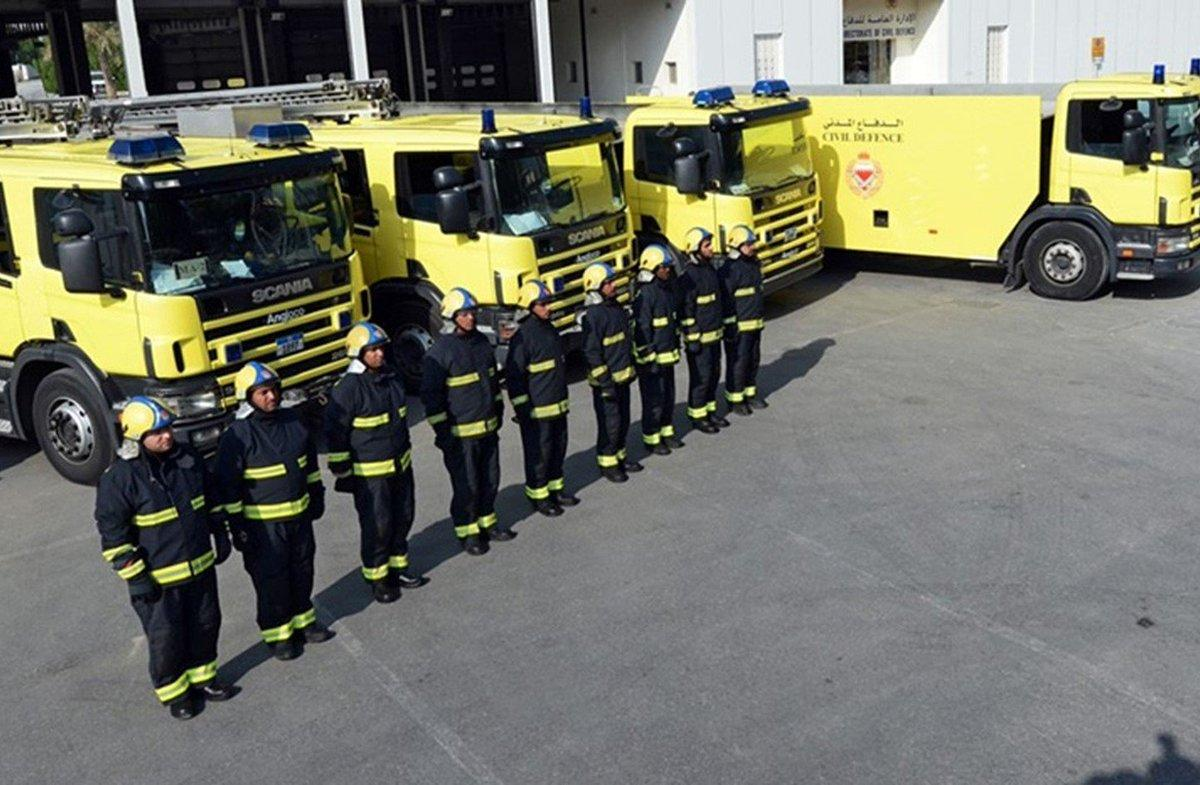firetruck_off: (0, 137, 375, 487), (827, 54, 1197, 287), (374, 99, 628, 337), (629, 80, 825, 293)
